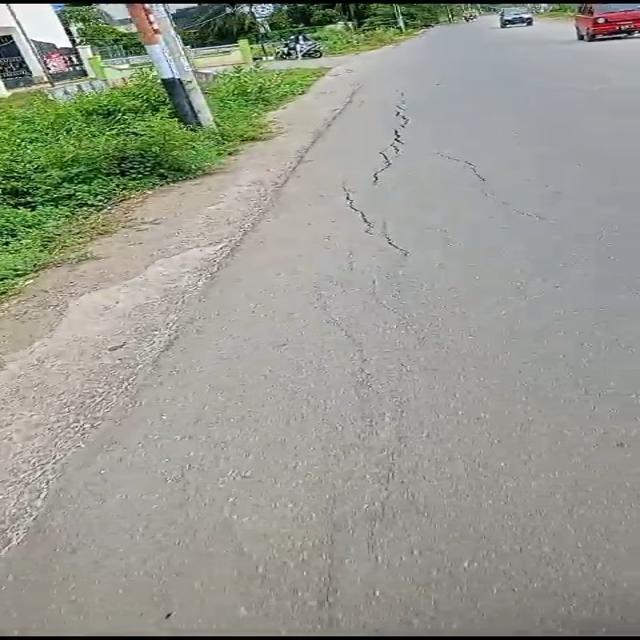Memanjang: (330, 79, 417, 264)
